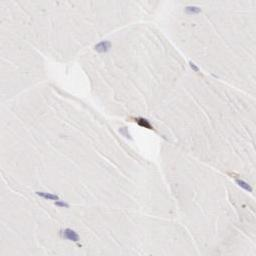nucleus: (62, 227, 80, 241), (94, 40, 112, 53), (236, 179, 252, 192), (35, 191, 59, 199), (120, 126, 132, 141), (185, 6, 202, 14), (189, 60, 199, 71), (55, 201, 68, 209)
positive_cell: (131, 115, 155, 131)
